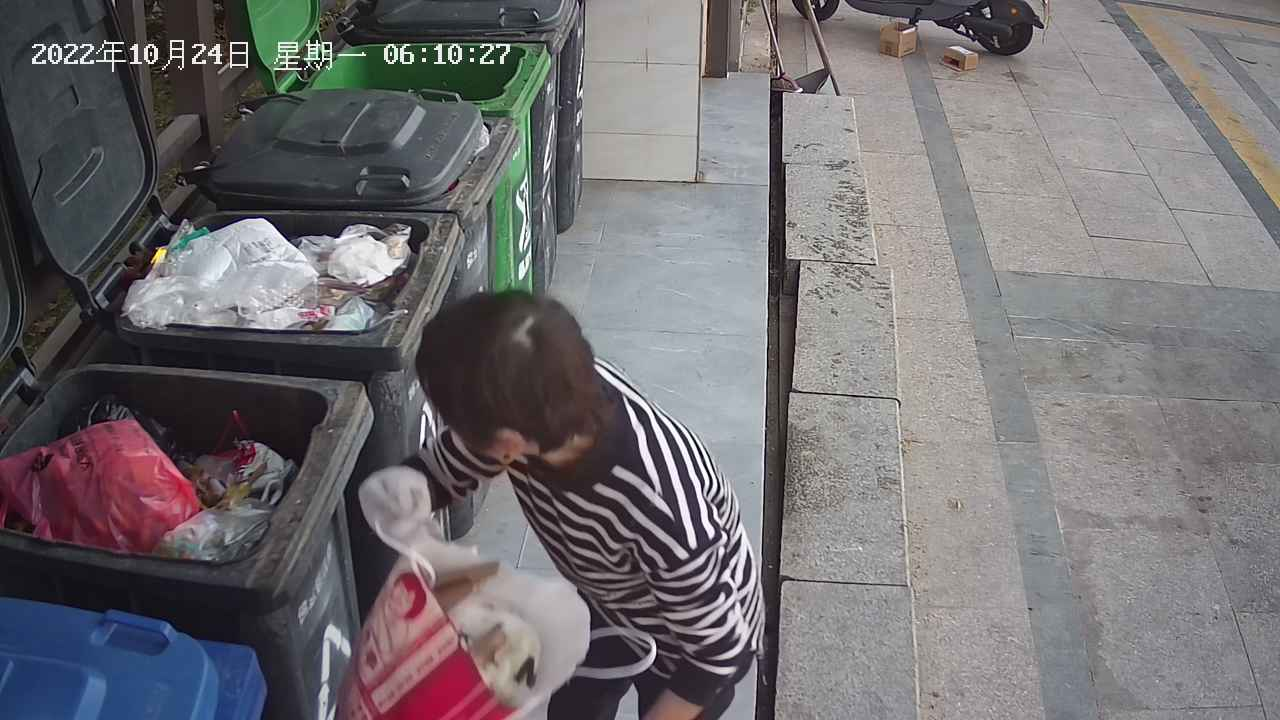garbage-bag: (323, 463, 663, 720)
person: (363, 278, 769, 720)
